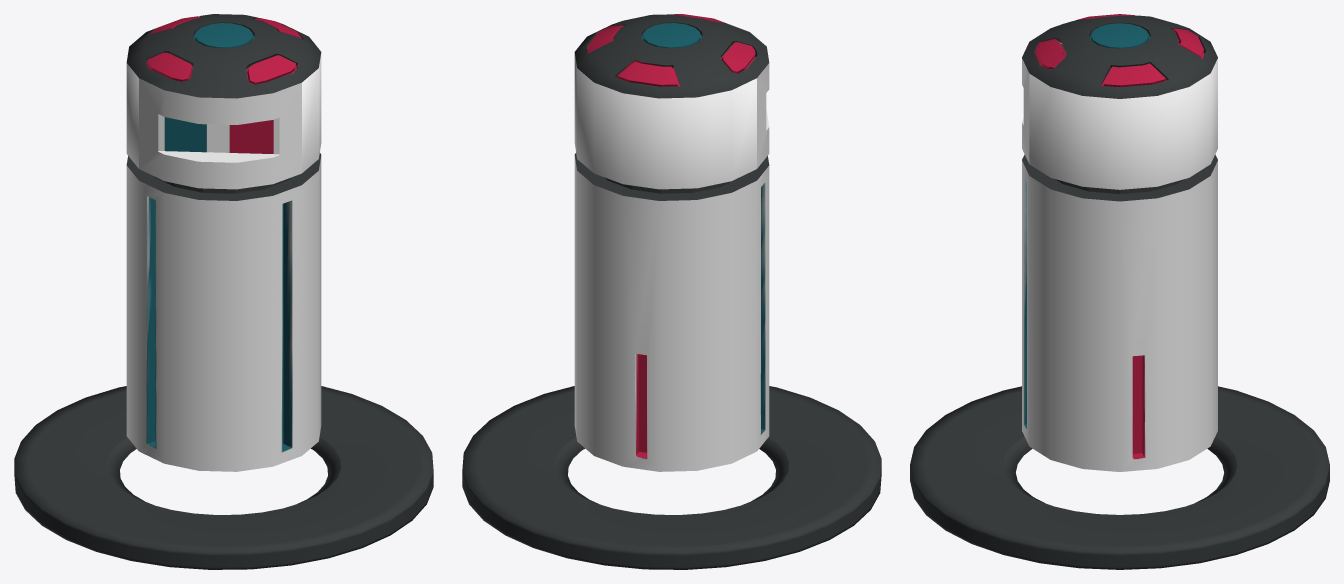
File: Ally_Bunker.FBX
The picture shows the model from 3 angles, left to right: view 1: azimuth 30°, elevation 25°; view 2: azimuth 150°, elevation 25°; view 3: azimuth 270°, elevation 25°; orthographic projection.
Visible parts, largest first — view 1: Cylinder002, Object; view 2: Cylinder002, Object; view 3: Cylinder002, Object.
Part boxes in pixels (x1=…): Cylinder002: x1=126, y1=14, x2=321, y2=471; Object: x1=14, y1=386, x2=433, y2=569; Cylinder002: x1=574, y1=14, x2=769, y2=471; Object: x1=462, y1=386, x2=881, y2=569; Cylinder002: x1=1022, y1=14, x2=1217, y2=471; Object: x1=910, y1=386, x2=1329, y2=569.
Bounding box in the file's own units: 38.75 × 45.73 × 38.75.
1 material, 1 textured.
